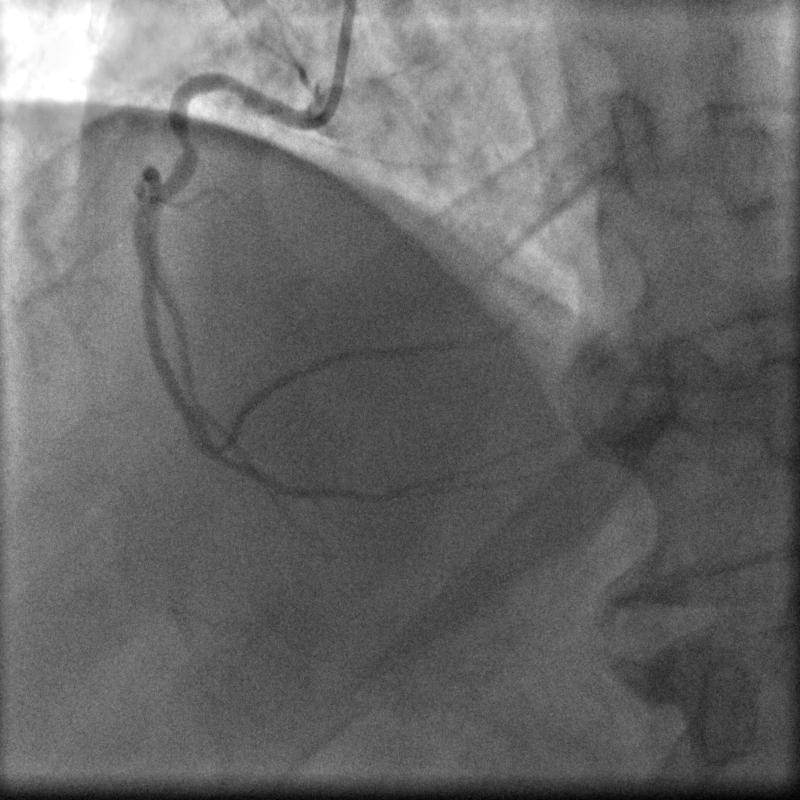Stenosis: (170, 130, 201, 162)
